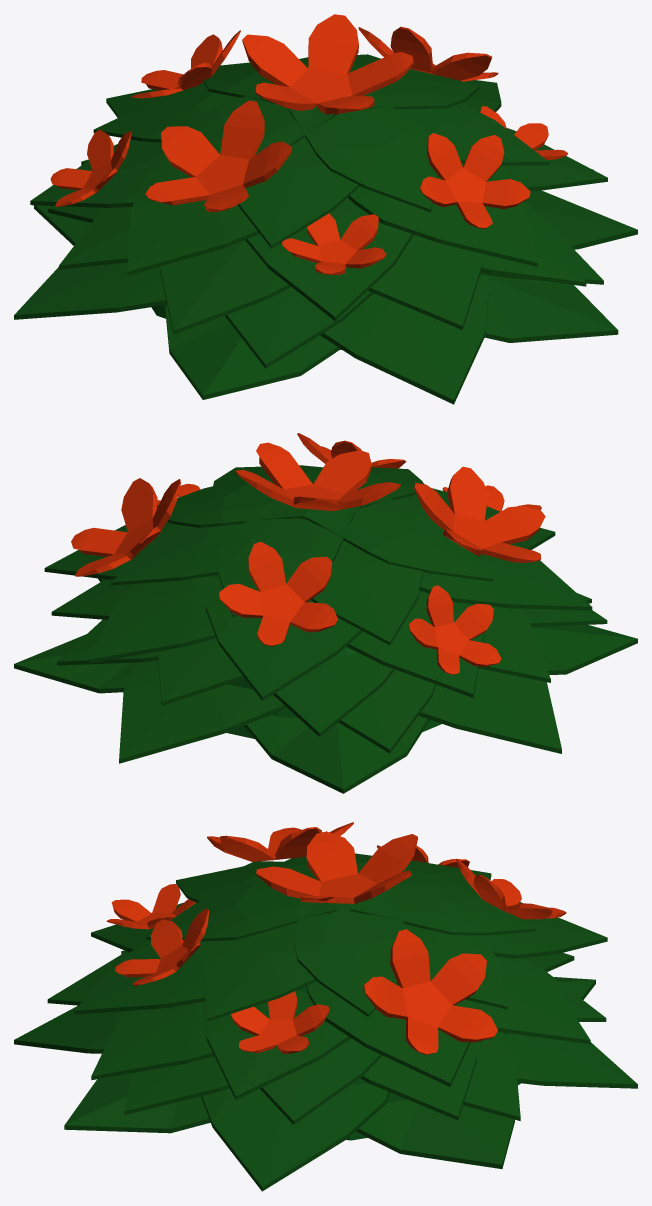
The model's file is BushOrangeFlowers.obj.
3 renders of one model, top to bottom at view 1: azimuth 30°, elevation 25°; view 2: azimuth 150°, elevation 25°; view 3: azimuth 270°, elevation 25°, orthographic. The views are drawn at different scales.
Parts seen in each view (by area): view 1: BushOrangeFlowers_Cube.005; view 2: BushOrangeFlowers_Cube.005; view 3: BushOrangeFlowers_Cube.005.
Part boxes in pixels (x1,y1,x2,y2): BushOrangeFlowers_Cube.005: (14,14,637,404); BushOrangeFlowers_Cube.005: (14,433,637,793); BushOrangeFlowers_Cube.005: (14,822,637,1191).
Bounding box in the file's own units: 9.91 × 3.73 × 9.99.
